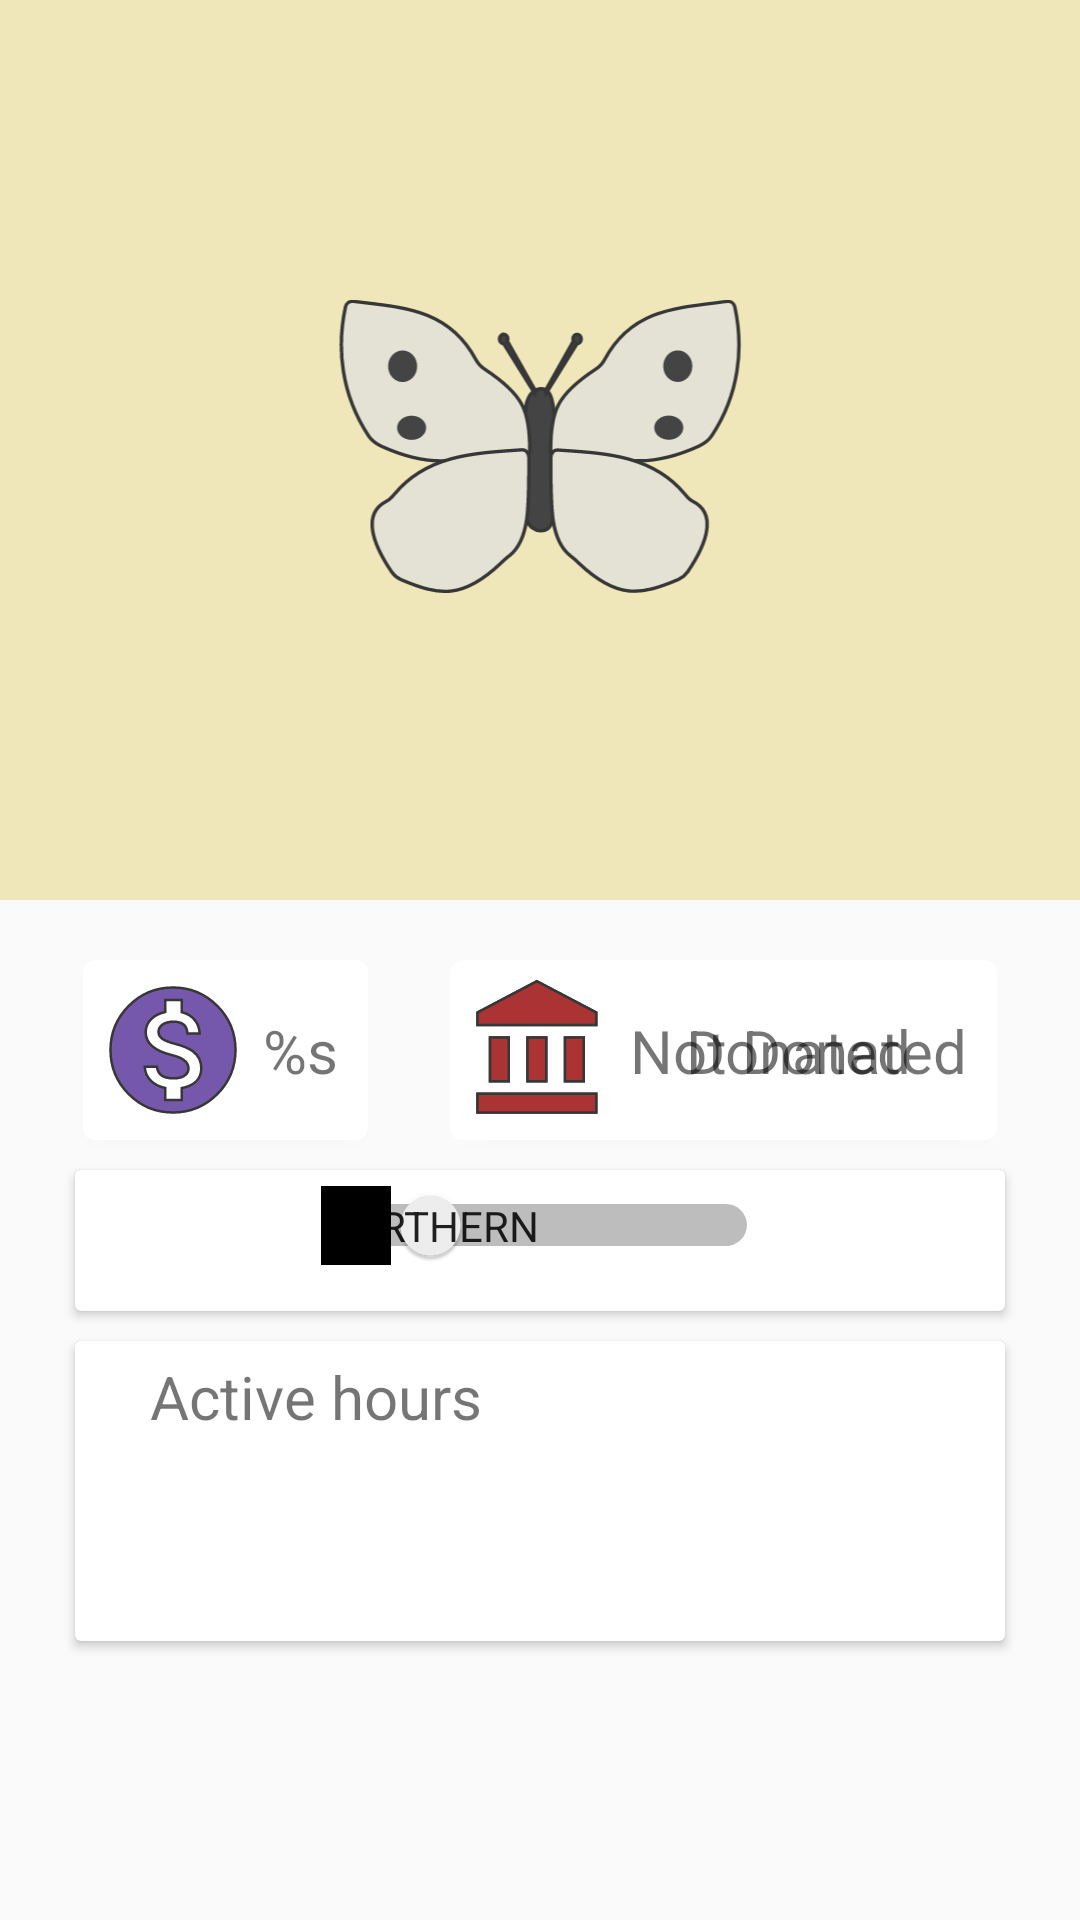

Named icons in this screenshot (1080px×1920px) and their centers, (x=x, y=y):
value: (x=173, y=1050)
